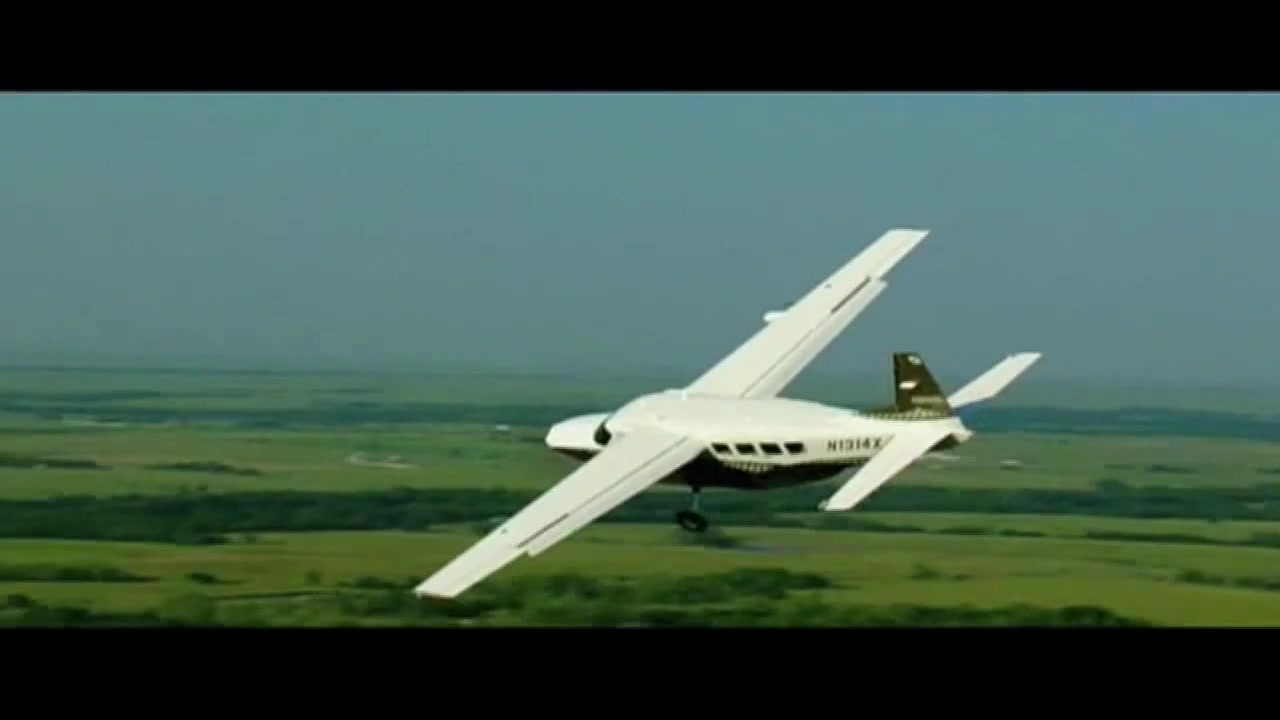aeroplane: (411, 224, 1044, 606)
